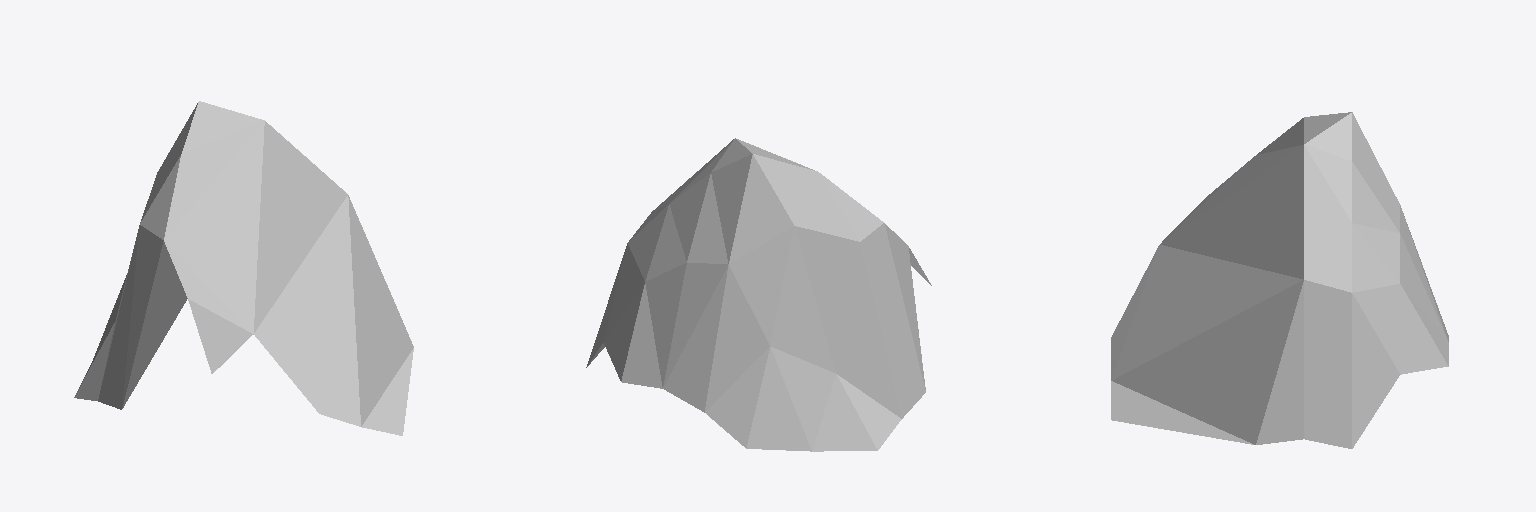
The model's file is tree_56.obj.
3 views of the same model, side by side, from view 1: azimuth 30°, elevation 25°; view 2: azimuth 150°, elevation 25°; view 3: azimuth 270°, elevation 25° (orthographic).
Parts seen in each view (by area): view 1: tree_56.001; view 2: tree_56.001; view 3: tree_56.001.
Boxes of the visible parts, box(x1,y1,x2,y2) form: tree_56.001: box(74, 101, 413, 435); tree_56.001: box(586, 138, 931, 451); tree_56.001: box(1111, 112, 1448, 448).
Size of the model in its own units: 7 by 6.13 by 7.